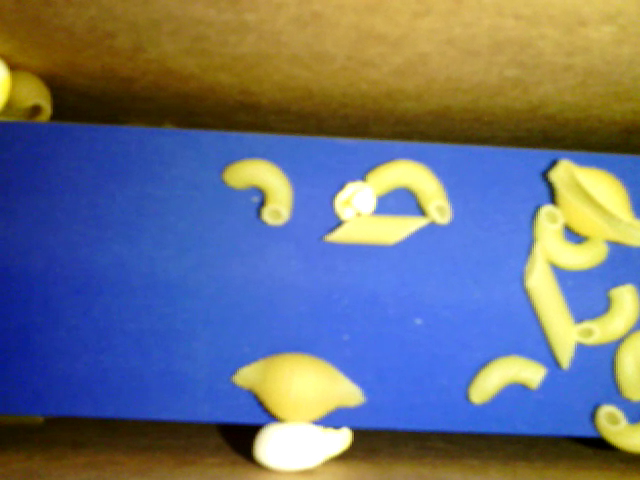elbow: (364, 157, 456, 231), (533, 205, 609, 272), (464, 351, 546, 410), (223, 157, 290, 228), (573, 278, 637, 349), (591, 398, 637, 458)
penne: (522, 242, 578, 373), (319, 211, 431, 244)
shell: (231, 351, 368, 422), (546, 158, 638, 250), (5, 70, 57, 124)
